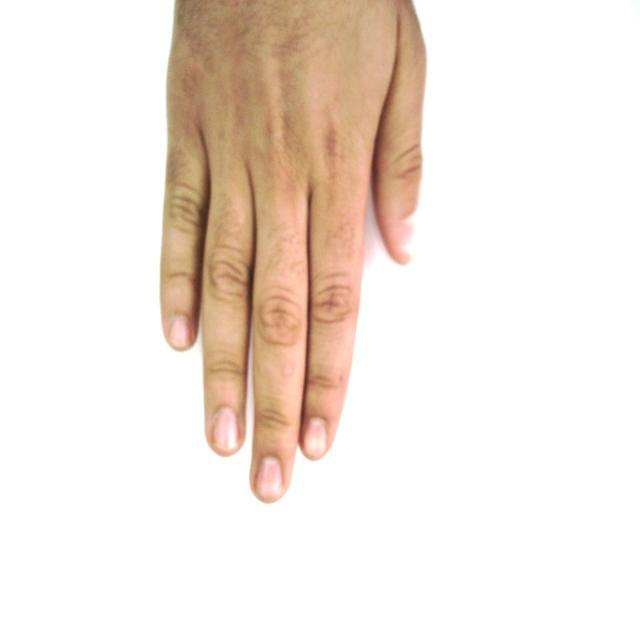Fingernail: (214, 409, 239, 451), (258, 457, 282, 499), (305, 419, 327, 459), (170, 317, 189, 348)
